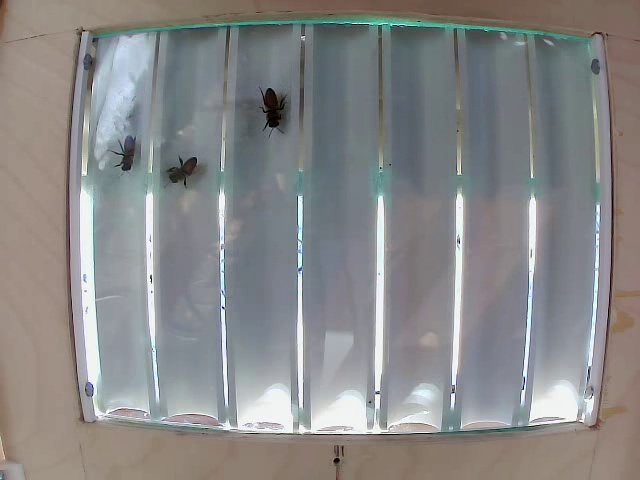bee: (99, 136, 155, 176), (256, 93, 279, 135), (168, 154, 187, 183)
